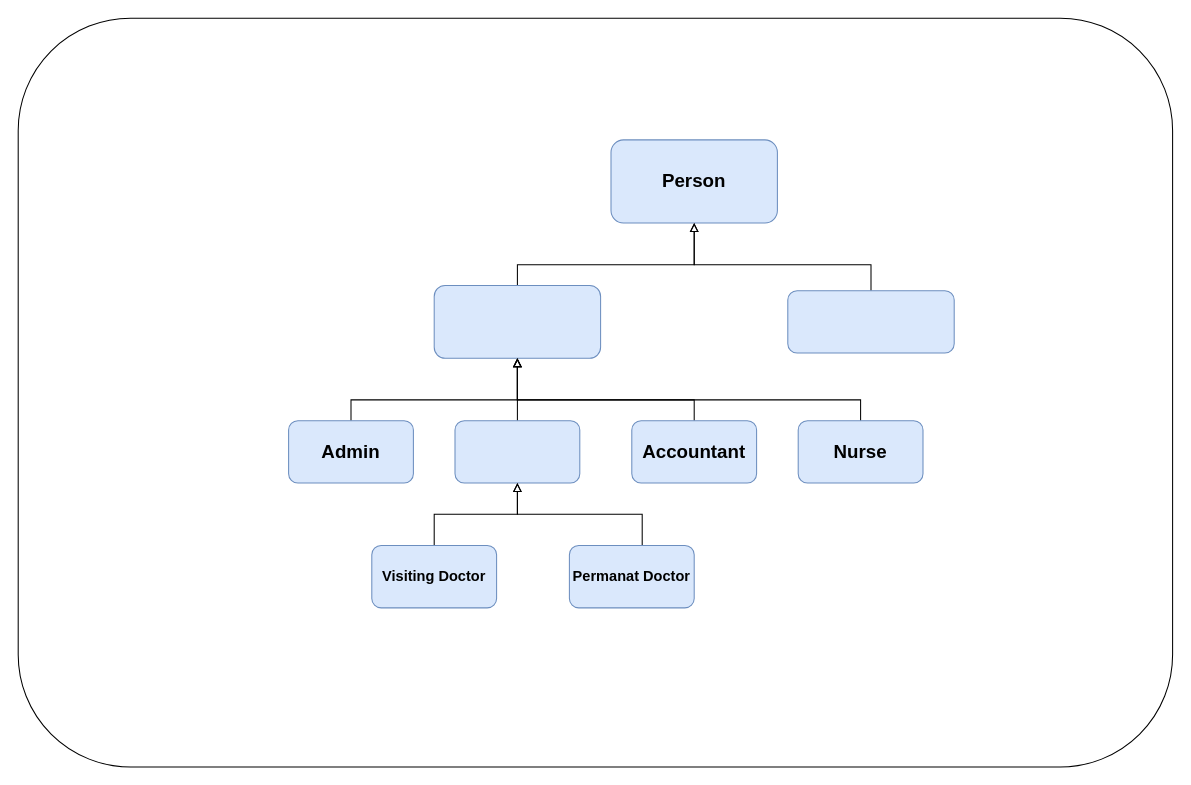
Image size: 1191x785. Some labels were removed from this diagram. Here are the shapes that lost their labels. From the top down, the centre of each, then its label:
At point (517, 321): "Staff".
At point (870, 321): "Patient".
At point (517, 451): "Doctor".
